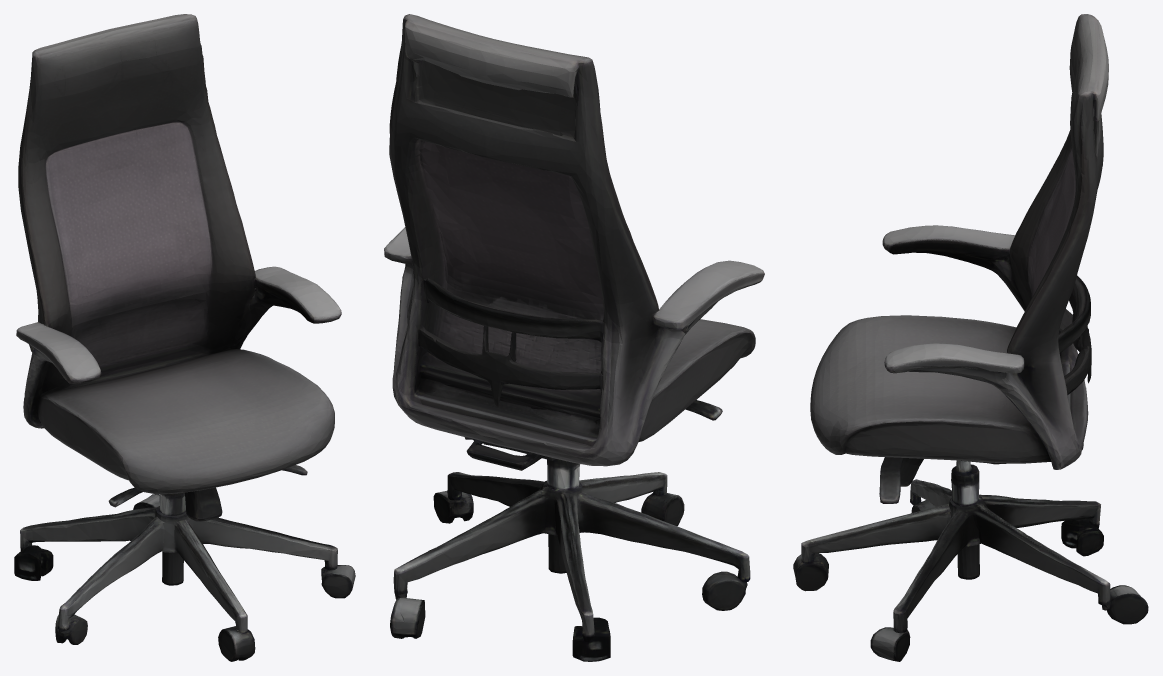
Rendered from chair.glb.
The picture shows the model from 3 angles, left to right: view 1: azimuth 30°, elevation 25°; view 2: azimuth 150°, elevation 25°; view 3: azimuth 270°, elevation 25°; orthographic projection. The views are drawn at different scales.
Visible parts, largest first — view 1: world; view 2: world; view 3: world.
Part boxes in pixels (bbox=[...]): world: bbox=[14, 14, 355, 661]; world: bbox=[384, 14, 764, 661]; world: bbox=[793, 14, 1148, 661].
Size of the model in its own units: 0.5752 by 1 by 0.5979.
1 material, 1 textured.
